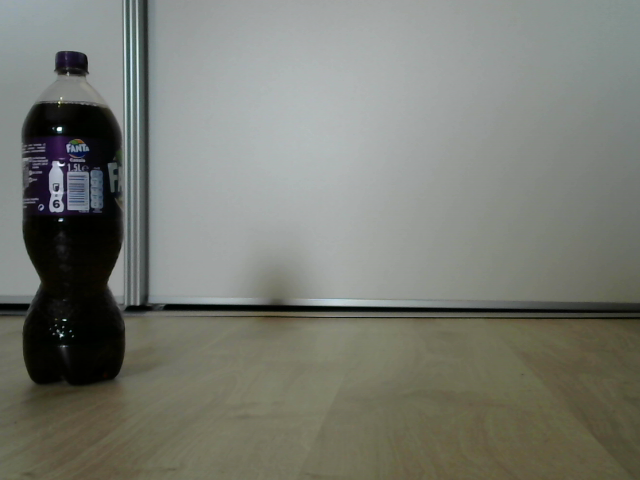bottle: (21, 51, 126, 387)
